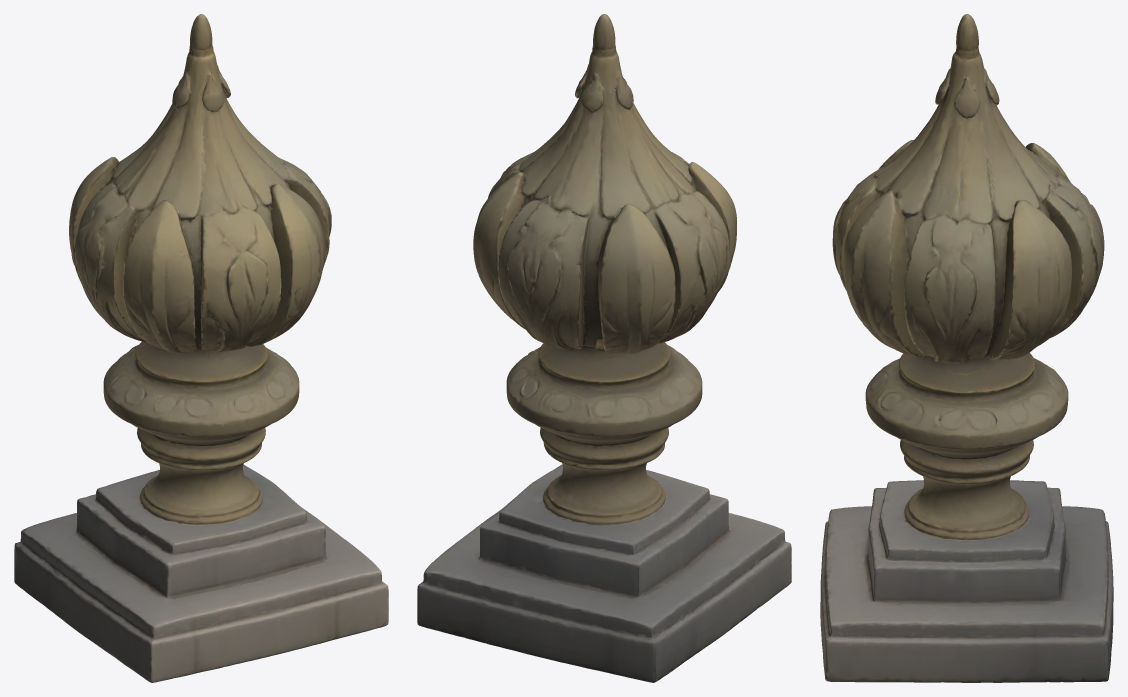
File: modular-roof-finial-bronze-gold-leaf-optimized.glb
The picture shows the model from 3 angles, left to right: view 1: azimuth 30°, elevation 25°; view 2: azimuth 150°, elevation 25°; view 3: azimuth 270°, elevation 25°; orthographic projection. The views are drawn at different scales.
Visible parts, largest first — view 1: world; view 2: world; view 3: world.
Part boxes in pixels (x1,y1,x2,y2): world: [14, 14, 388, 682]; world: [417, 14, 791, 682]; world: [820, 14, 1113, 682].
Size of the model in its own units: 0.3027 by 0.7 by 0.3054.
1 material, 1 textured.
